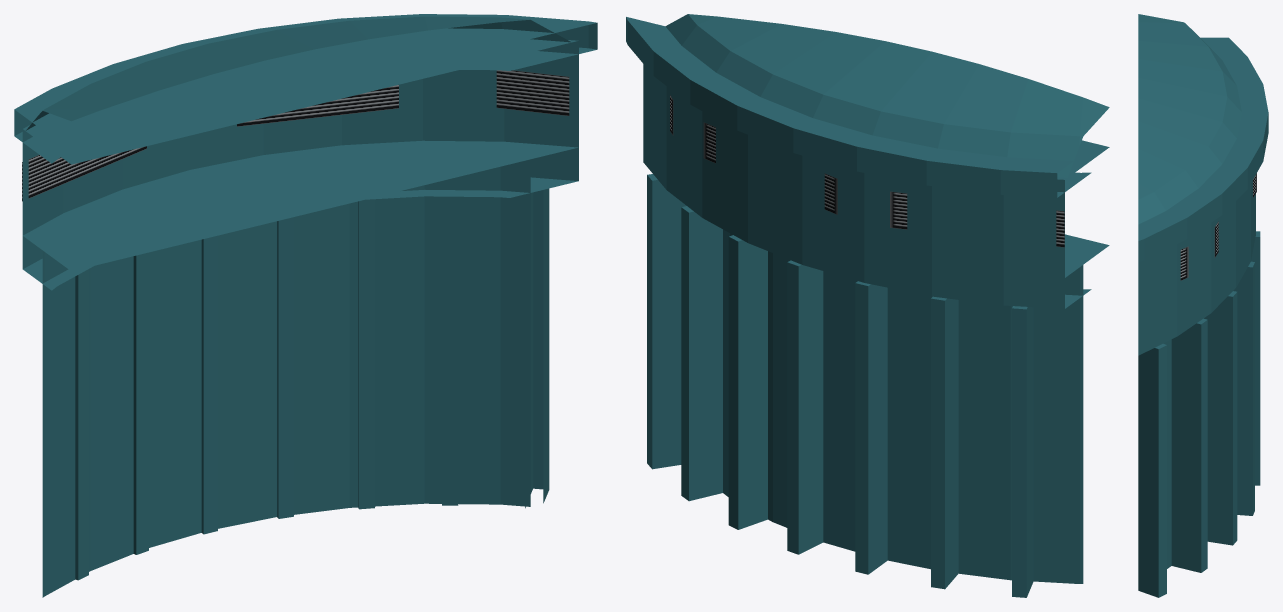
File: cell_46.obj
3 renders of one model, left to right at view 1: azimuth 30°, elevation 25°; view 2: azimuth 150°, elevation 25°; view 3: azimuth 270°, elevation 25°, orthographic. The views are drawn at different scales.
Bounding box in the file's own units: 0.8182 × 0.7594 × 0.221.
